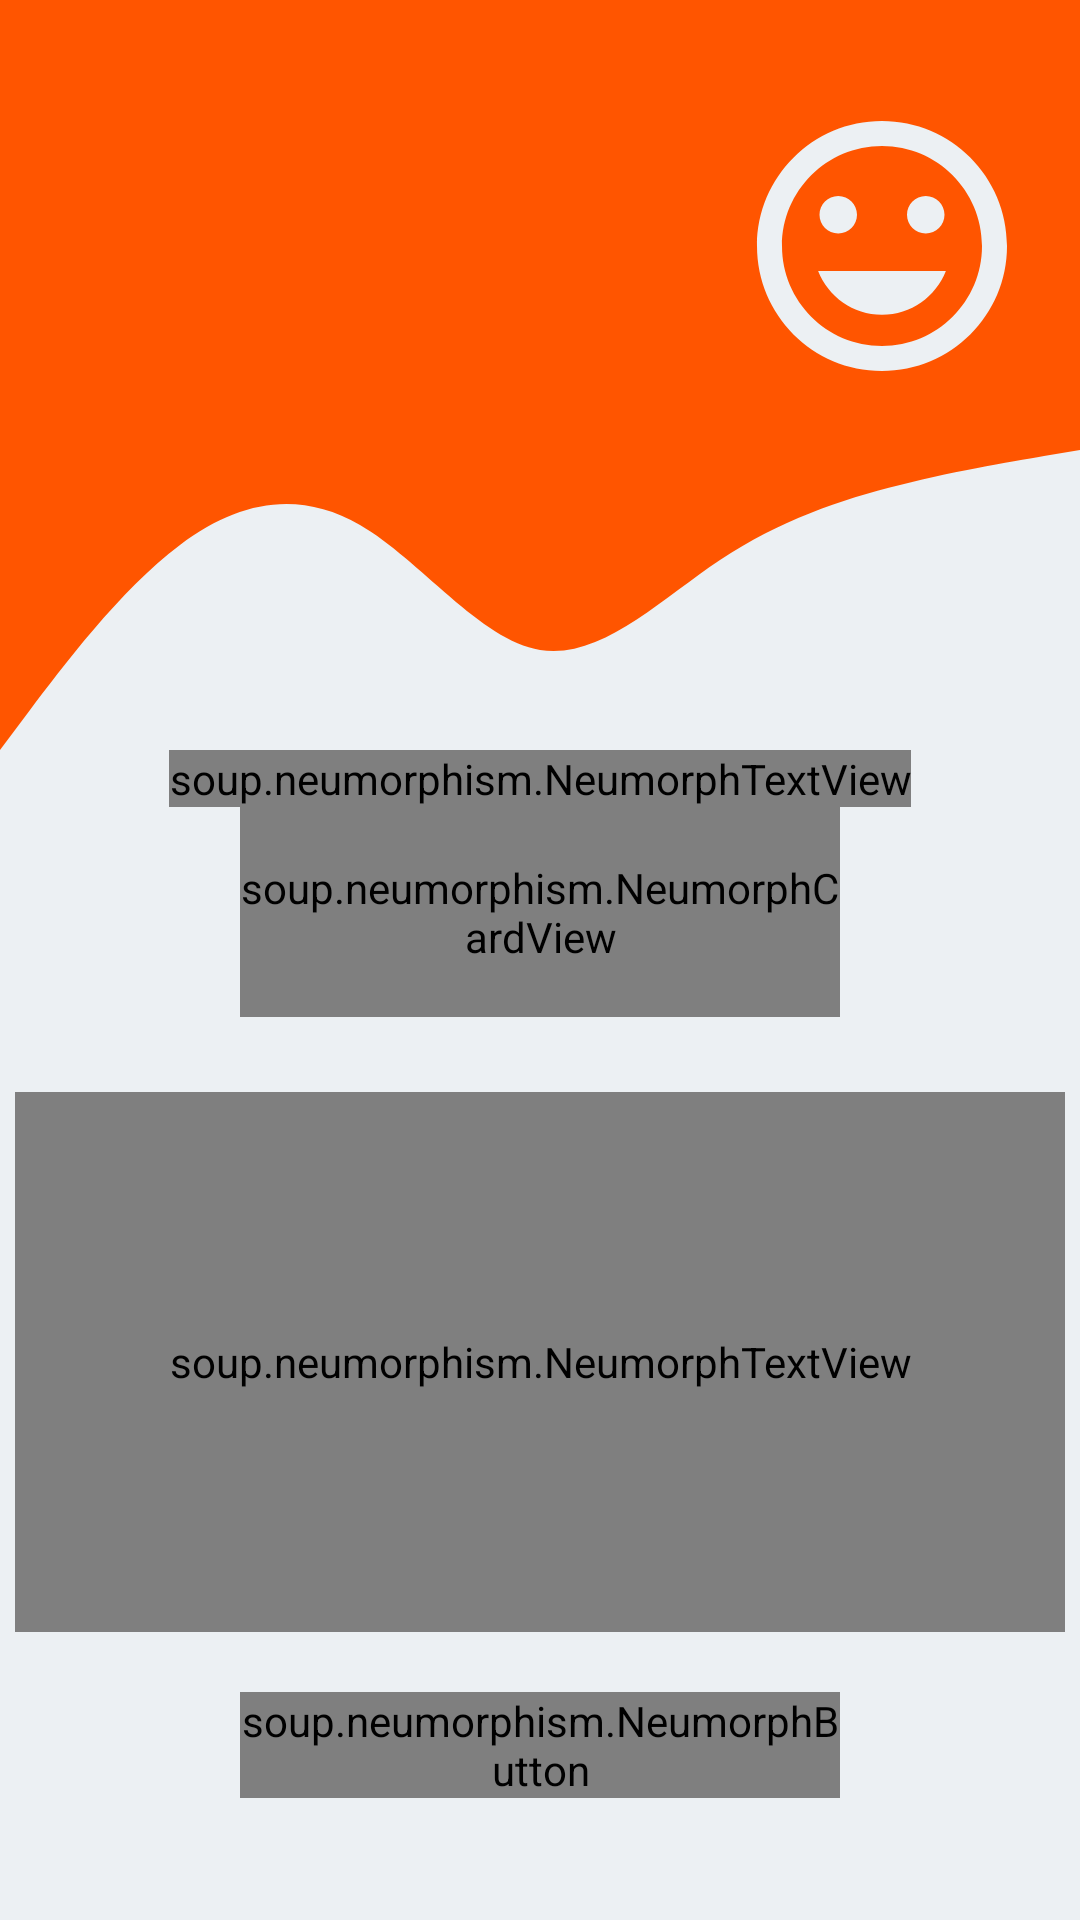

Icons on this 1080 x 1920 Android screen, each with the point to tap as point (x, y):
tag faces: point (882, 246)
